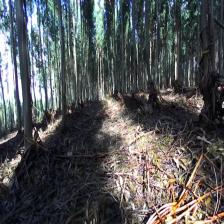trunk: (16, 7, 34, 149), (200, 0, 218, 127), (57, 7, 67, 129), (144, 4, 156, 101), (131, 4, 139, 96)
